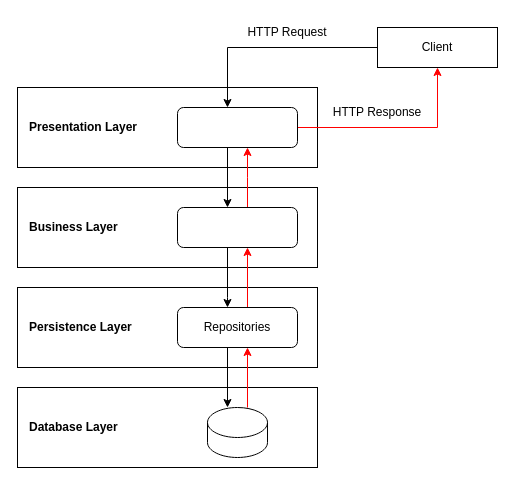
This 515x485 diagram has some shape labels left out. The shapes that lost their labels are listed below. From the top down, each one's centre as x and y in pixels, then its label:
(237,127): Controllers
(237,227): Services
